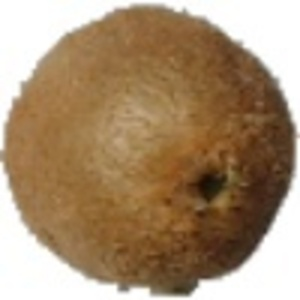kiwi: (1, 3, 300, 300)
